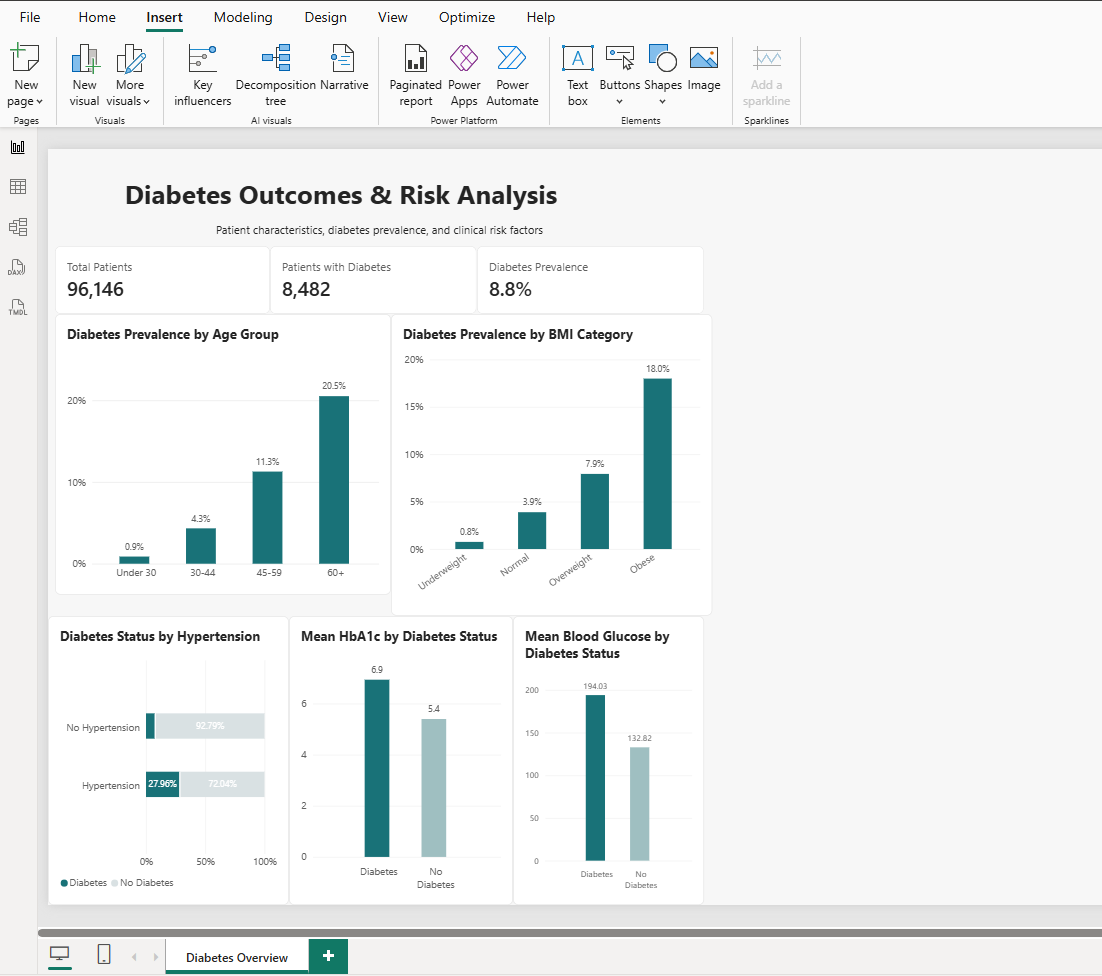

What the dashboard file says about the page in this screenshot:
{"tool":"powerbi","page":{"name":"Diabetes Overview","canvas":[1920,1080],"ordinal":0},"visuals":[{"type":"textbox","box":[10,0,357.1,138.6],"z":0},{"type":"textbox","box":[10,38.6,817.1,50],"z":1},{"type":"textbox","box":[10,104.3,927.1,34.3],"z":3},{"type":"cardVisual","fields":{"Data":["Diabetes Analysis.Total Patients Display"]},"box":[10,138.6,307.1,97.1],"z":4},{"type":"cardVisual","fields":{"Data":["Diabetes Analysis.Diabetes Prevalence"]},"box":[612.9,138.6,324.3,97.1],"z":5},{"type":"cardVisual","fields":{"Data":["Diabetes Analysis.Patients with Diabetes Display"]},"box":[317.1,138.6,295.7,97.1],"z":6},{"type":"clusteredColumnChart","title":"Diabetes Prevalence by Age Group","fields":{"Category":["Diabetes Analysis.age_group"],"Y":["Diabetes Analysis.Diabetes Prevalence"]},"box":[10,235.7,480,401.4],"z":7},{"type":"clusteredColumnChart","title":"Diabetes Prevalence by BMI Category","fields":{"Category":["Diabetes Analysis.bmi_category"],"Y":["Diabetes Analysis.Diabetes Prevalence"]},"box":[490,235.7,458.6,431.4],"z":8},{"type":"hundredPercentStackedBarChart","title":"Diabetes Status by Hypertension","fields":{"Category":["Diabetes Analysis.Hypertension Status"],"Series":["Diabetes Analysis.Diabetes Status"],"Y":["Diabetes Analysis.Total Patients"]},"box":[0,667.1,344.3,412.9],"z":9},{"type":"clusteredColumnChart","title":"Mean HbA1c by Diabetes Status","fields":{"Category":["Diabetes Analysis.Diabetes Status"],"Y":["Avg(Diabetes Analysis.HbA1c_level)"]},"box":[344.3,667.1,320,412.9],"z":10},{"type":"clusteredColumnChart","title":"Mean Blood Glucose by Diabetes Status","fields":{"Category":["Diabetes Analysis.Diabetes Status"],"Y":["Avg(Diabetes Analysis.blood_glucose_level)"]},"box":[664.3,667.1,272.9,412.9],"z":11}]}

Visuals, with their boxes on the page's 1920x1080 design canvas (x1, y1, x2, y2). These are canvas units, not pixel positions in the 1102x976 screenshot, which may show the page scaled, cropped or inside an application window:
textbox: select_region(10, 0, 367, 139)
textbox: select_region(10, 39, 827, 89)
textbox: select_region(10, 104, 937, 139)
cardVisual - Diabetes Analysis.Total Patients Display: select_region(10, 139, 317, 236)
cardVisual - Diabetes Analysis.Diabetes Prevalence: select_region(613, 139, 937, 236)
cardVisual - Diabetes Analysis.Patients with Diabetes Display: select_region(317, 139, 613, 236)
"Diabetes Prevalence by Age Group" clusteredColumnChart: select_region(10, 236, 490, 637)
"Diabetes Prevalence by BMI Category" clusteredColumnChart: select_region(490, 236, 949, 667)
"Diabetes Status by Hypertension" hundredPercentStackedBarChart: select_region(0, 667, 344, 1080)
"Mean HbA1c by Diabetes Status" clusteredColumnChart: select_region(344, 667, 664, 1080)
"Mean Blood Glucose by Diabetes Status" clusteredColumnChart: select_region(664, 667, 937, 1080)
